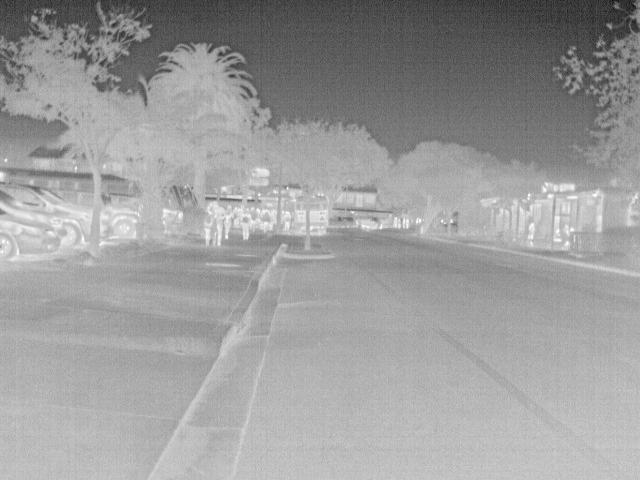car: (1, 182, 93, 247), (1, 206, 59, 266), (105, 203, 138, 239), (359, 216, 385, 230)
person: (211, 204, 227, 248), (199, 205, 213, 246), (239, 209, 253, 241), (224, 209, 236, 240), (562, 222, 574, 248), (282, 211, 294, 234), (526, 219, 538, 240), (552, 226, 564, 241), (396, 218, 403, 228), (407, 219, 413, 230), (402, 216, 407, 228)
